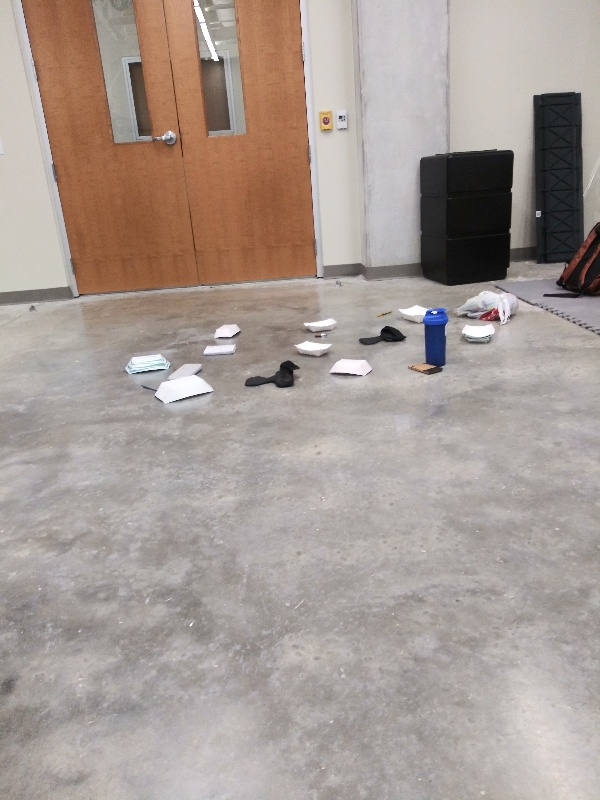plate: (149, 372, 219, 407), (122, 349, 172, 378), (325, 356, 380, 381), (458, 318, 499, 349), (300, 311, 341, 338), (289, 337, 335, 361), (396, 301, 434, 324), (212, 320, 244, 343)
